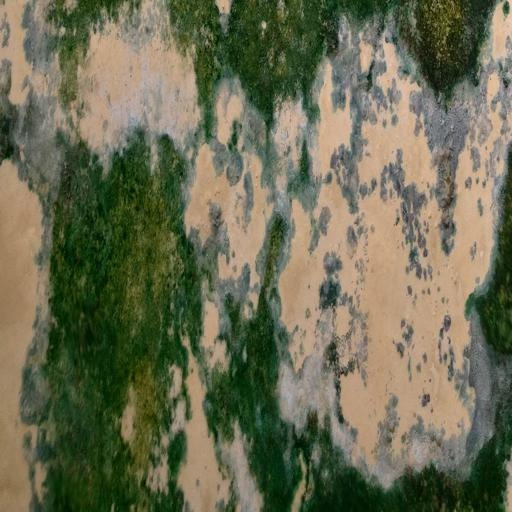algae: (21, 0, 356, 512)
